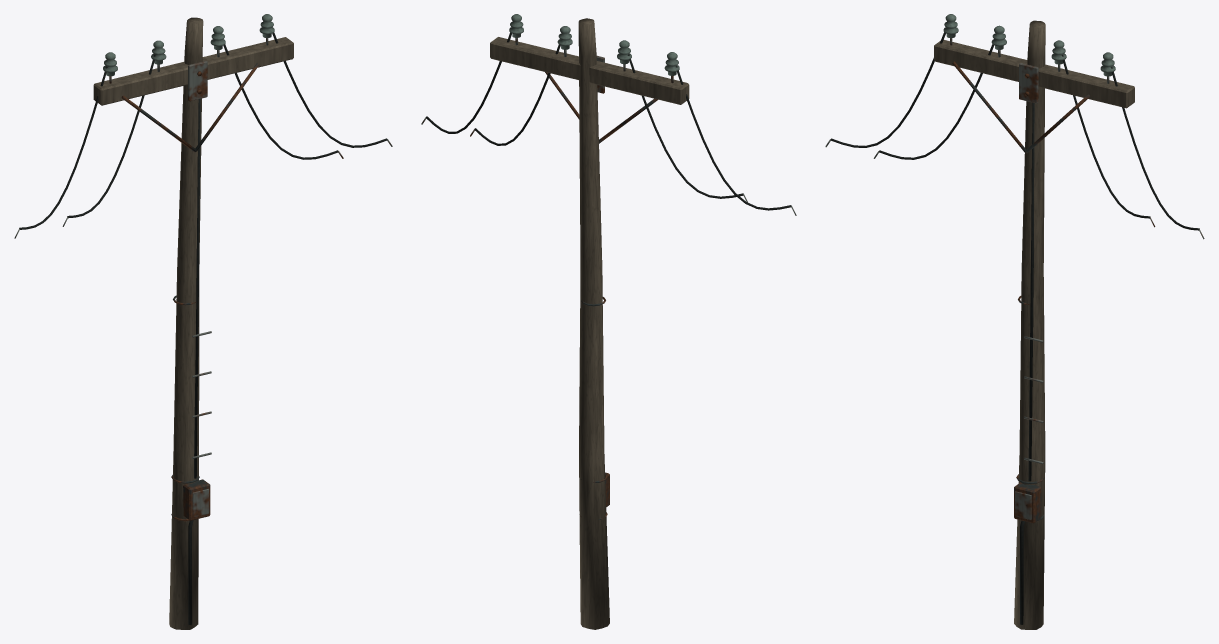
File: utility_pole.glb
3 renders of one model, left to right at view 1: azimuth 30°, elevation 25°; view 2: azimuth 150°, elevation 25°; view 3: azimuth 330°, elevation 25°, orthographic.
Parts seen in each view (by area): view 1: utility_pole; view 2: utility_pole; view 3: utility_pole.
Part boxes in pixels (x1,y1,x2,y2): utility_pole: [14, 14, 392, 629]; utility_pole: [421, 14, 796, 629]; utility_pole: [825, 14, 1204, 629].
Bounding box in the file's own units: 4.63 × 7.06 × 0.5254.
1 material, 1 textured.
